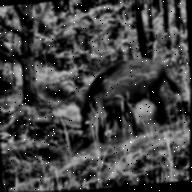boar: (70, 44, 178, 147)
